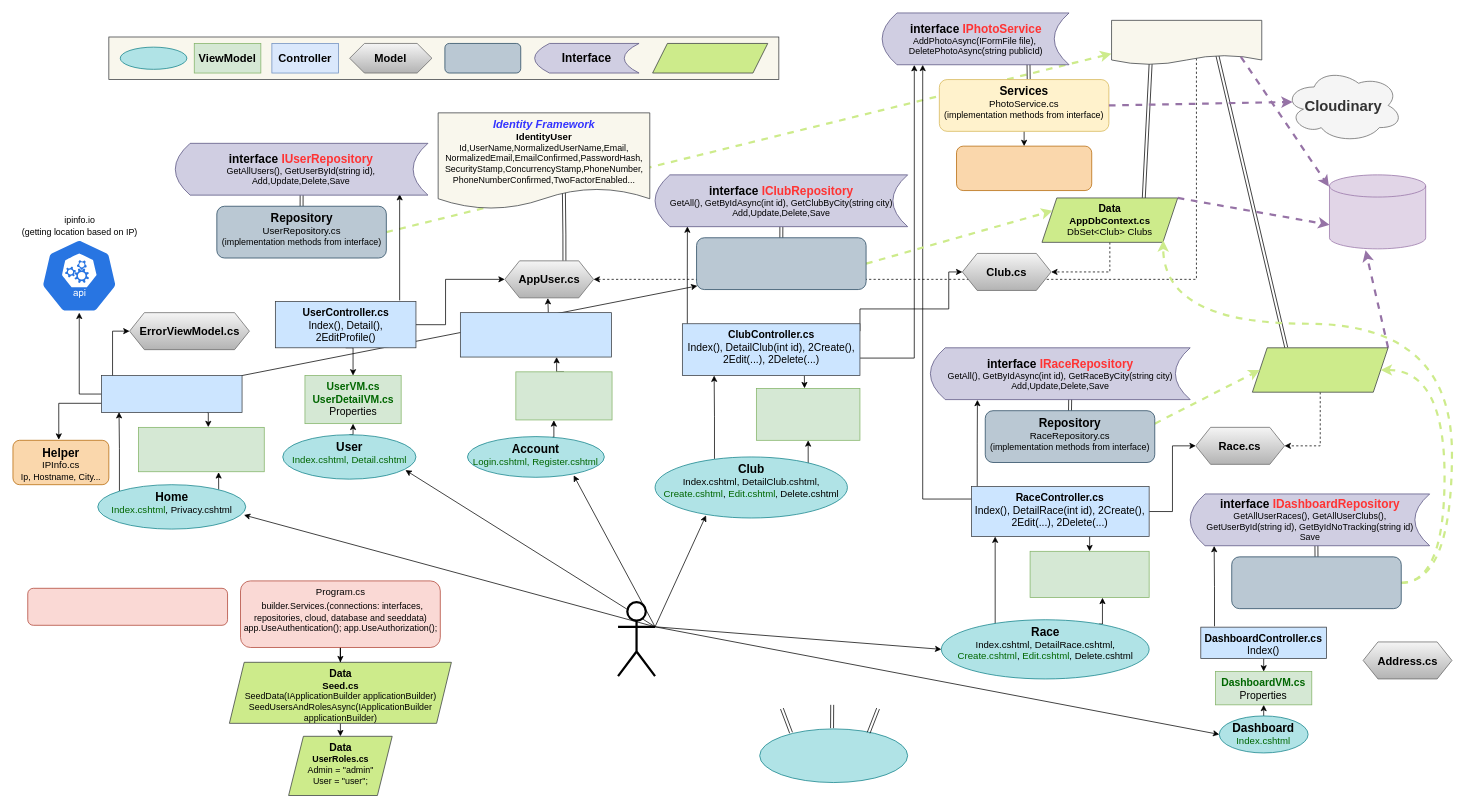
The diagram is 1466 pixels wide and 809 high, and some of its shapes have lost their labels. The shapes that lost their labels are listed below. From the top down, each one's centre as x and y in pixels, then its label:
At (x=153, y=57): "View".
At (x=482, y=58): "Repository".
At (x=710, y=58): "Entity Framework".
At (x=1186, y=42): "Identity Framework IdentityDbContext<AppUser>".
At (x=1024, y=168): "Helper CloudinarySettings.cs CloudName, ApiKey, ApiSecret".
At (x=1377, y=211): "RunGroups".
At (x=781, y=263): "Repository ClubRepository.cs (implementation methods from interface)".
At (x=535, y=334): "AccountController.cs 2Login(), 2Register(), Logout()".
At (x=1320, y=369): "Data AppDbContext.cs DbSet<Race> Races".
At (x=171, y=394): "HomeController.cs Index(), Privacy(), Error()".
At (x=563, y=395): "LoginVM.cs RegisterVM.cs Properties".
At (x=808, y=414): "CreateClubVM.cs, EditClubVM.cs Properties".
At (x=201, y=449): "HomeVM.cs HomeUserCreateVM.cs Properties".
At (x=1089, y=574): "CreateRaceVM.cs EditRaceVM.cs Properties".
At (x=1316, y=582): "Repository DashboardRepository.cs (implementation methods from interface)".
At (x=127, y=606): "appsettings.json ( database and cloud settings for connection)".
At (x=636, y=639): "Actor".
At (x=833, y=755): "Shared _Layout.cshtml, Error.cshtml, _ValidationScriptsPartial.cshtml".
